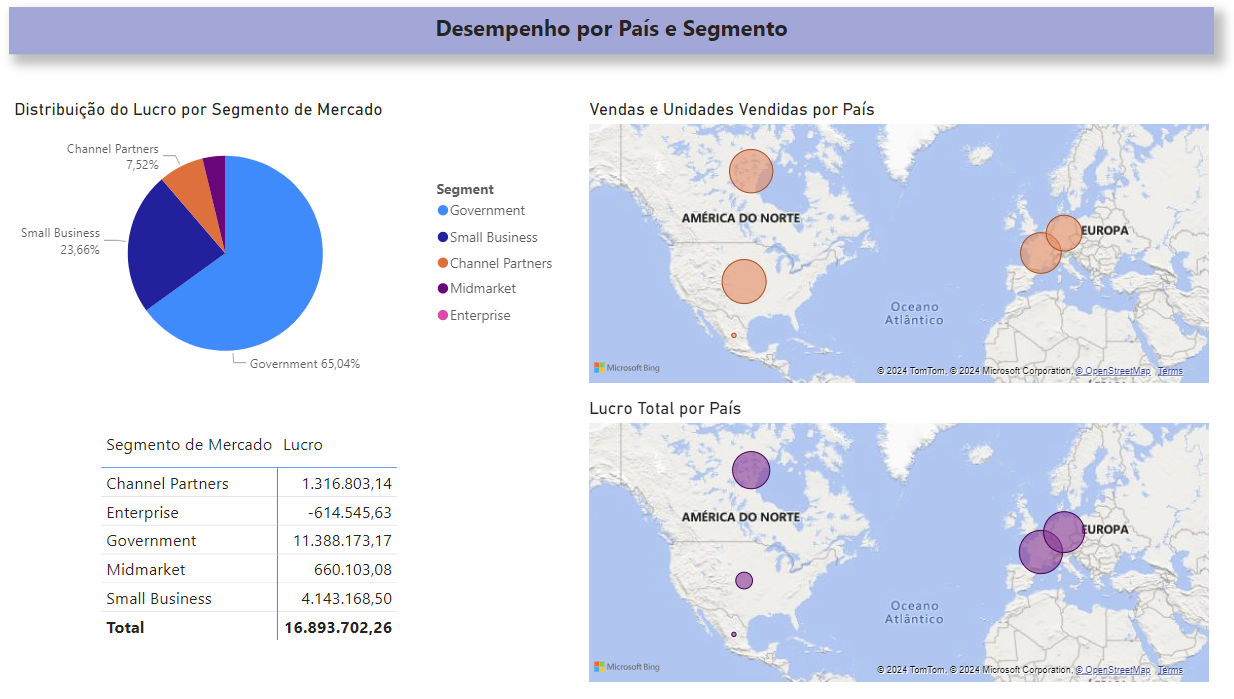

Layout of this report page (visuals, bound fields, positions):
{"tool":"powerbi","page":{"name":"Página 3","canvas":[1280,720],"ordinal":2},"visuals":[{"type":"textbox","box":[58.4,29.2,1172,45.7],"z":0},{"type":"map","title":"Vendas e Unidades Vendidas por País","fields":{"Category":["financials.Country"],"Size":["Sum(financials. Sales)"]},"box":[617.6,118.7,612.8,281.1],"z":1000},{"type":"map","title":"Lucro Total por País","fields":{"Category":["financials.Country"],"Size":["Sum(financials.Profit)"]},"box":[617.6,409.5,612.8,281.1],"z":2000},{"type":"pieChart","title":"Distribuição do Lucro por Segmento de Mercado","fields":{"Category":["financials.Segment"],"Y":["Sum(financials.Profit)"]},"box":[58.4,118.7,542.7,281.1],"z":3000},{"type":"pivotTable","fields":{"Values":["Sum(financials.Profit)"],"Rows":["financials.Segment"]},"box":[143,434.8,410.5,230.5],"z":4000}]}

Visuals, with their boxes in screenshot pixels (x1, y1, x2, y2), scaled from the page's 1280x720 canvas onto the 1234x699 screenshot:
textbox: [left=56, top=28, right=1186, bottom=73]
"Vendas e Unidades Vendidas por País" map: [left=595, top=115, right=1186, bottom=388]
"Lucro Total por País" map: [left=595, top=398, right=1186, bottom=670]
"Distribuição do Lucro por Segmento de Mercado" pieChart: [left=56, top=115, right=579, bottom=388]
pivotTable - Sum(financials.Profit) x financials.Segment: [left=138, top=422, right=534, bottom=646]
